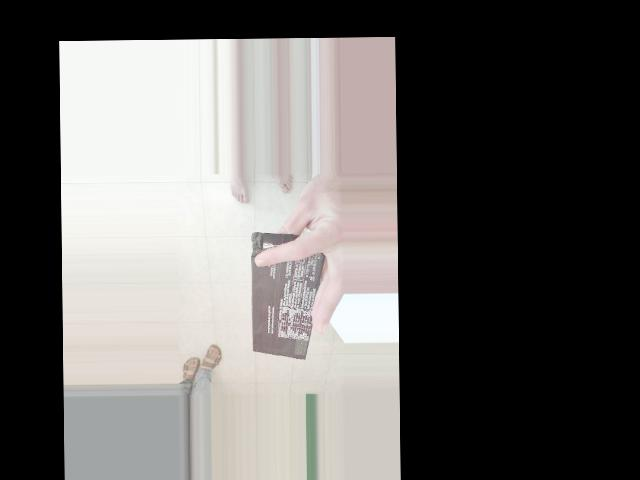chocolate: (177, 251, 312, 325)
